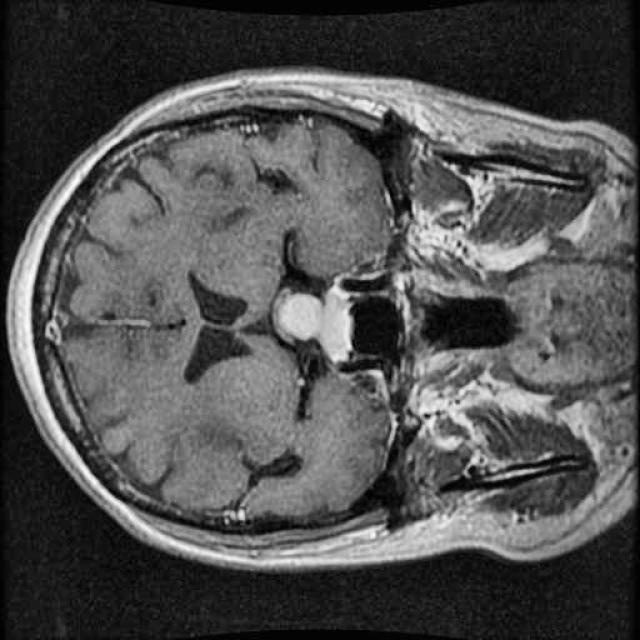Tumor: (261, 276, 369, 371)
